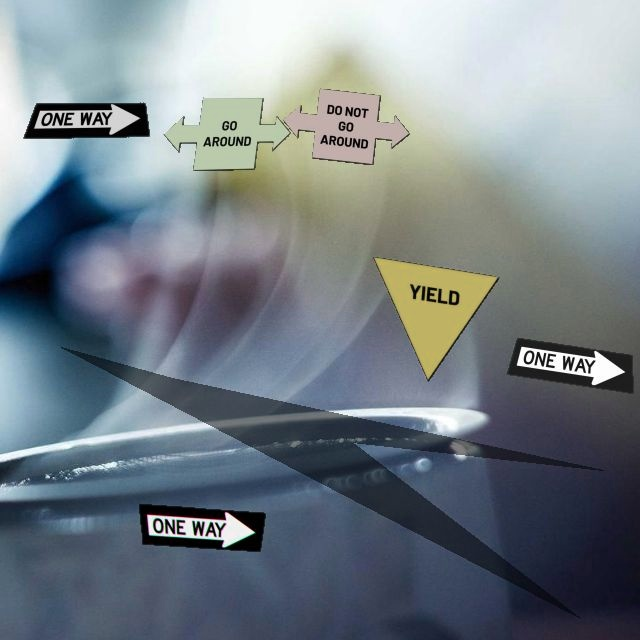DO_NOT_GO_AROUND: (282, 88, 410, 165)
GO_AROUND: (163, 97, 291, 171)
ONE_WAY_ right: (506, 337, 634, 394), (138, 503, 266, 552), (22, 102, 150, 139)
YIELD: (372, 256, 500, 382)
